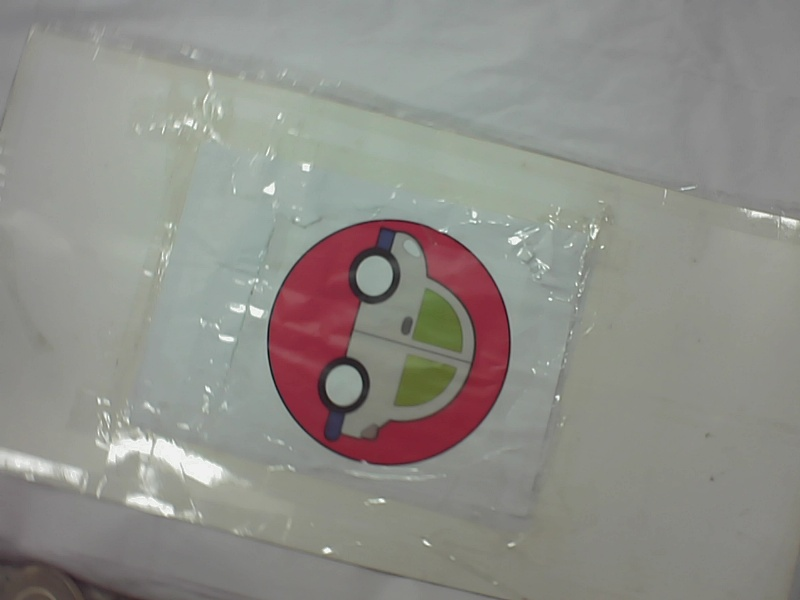areaC: (255, 215, 532, 478)
